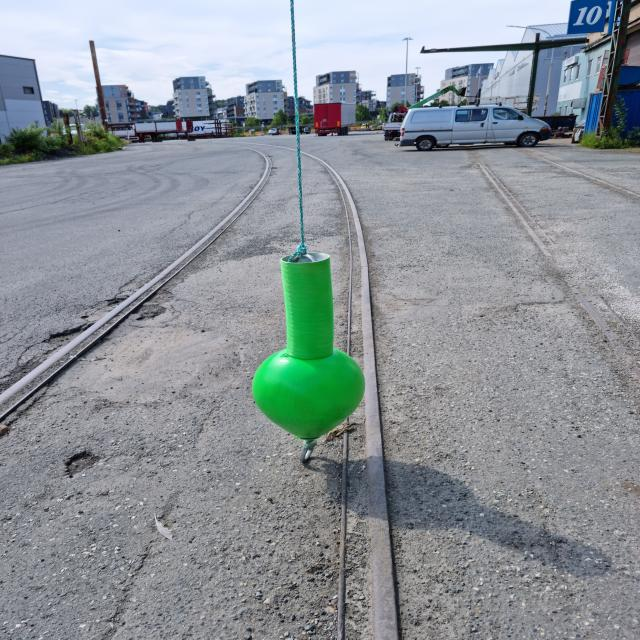green: (250, 252, 365, 438)
